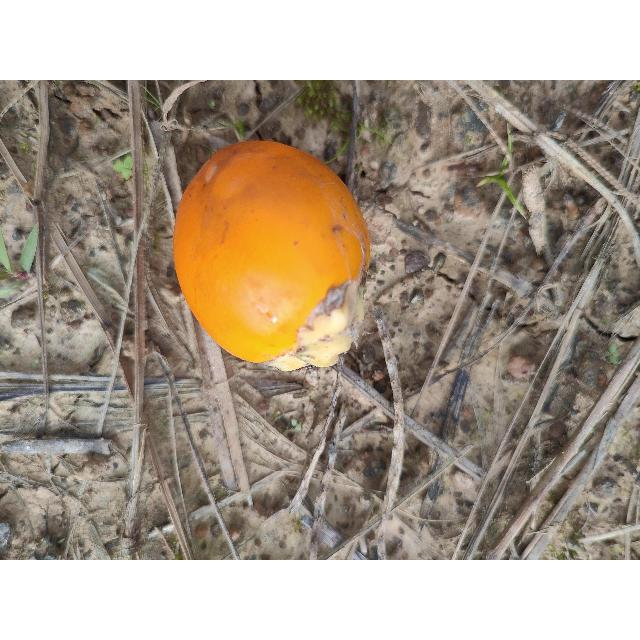good: (173, 140, 371, 366)
